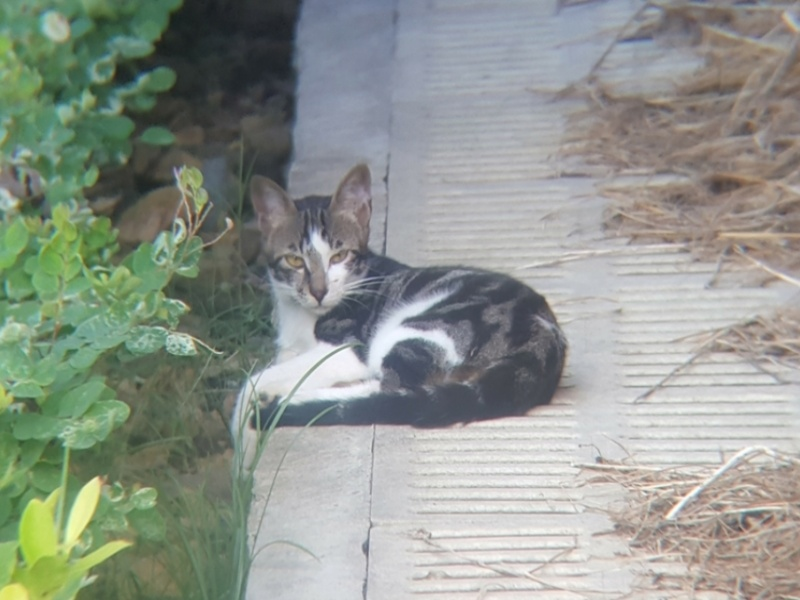cat: (221, 162, 568, 433)
